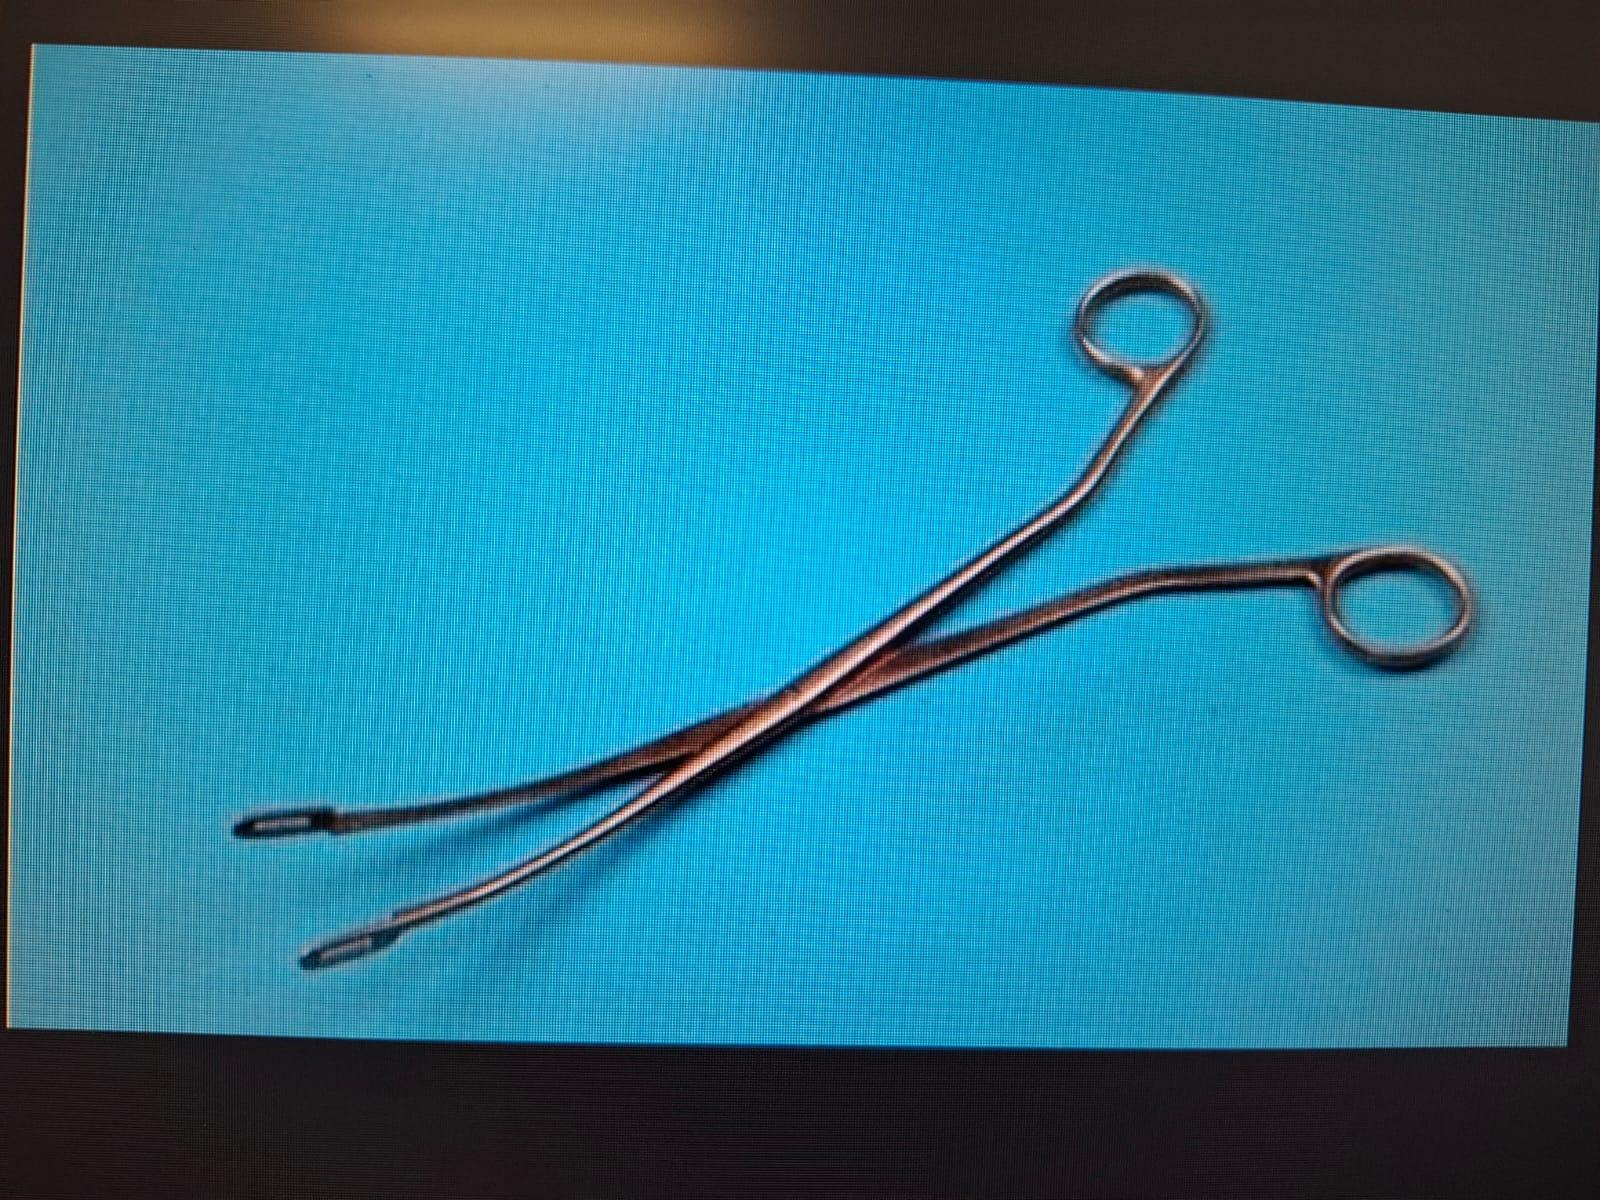Desjardin Forceps: (232, 248, 1480, 1013)
